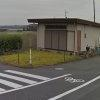crosswalks: (0, 69, 71, 96)
